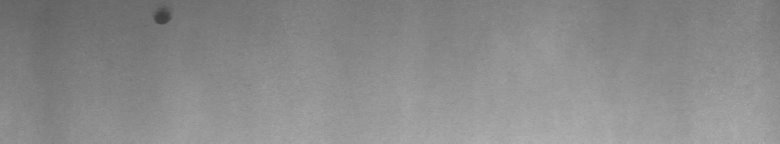fi: (148, 4, 176, 32)
